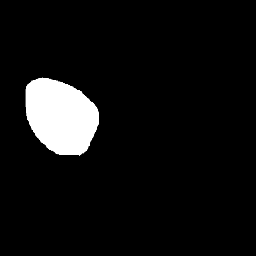mass: (28, 80, 89, 152)
